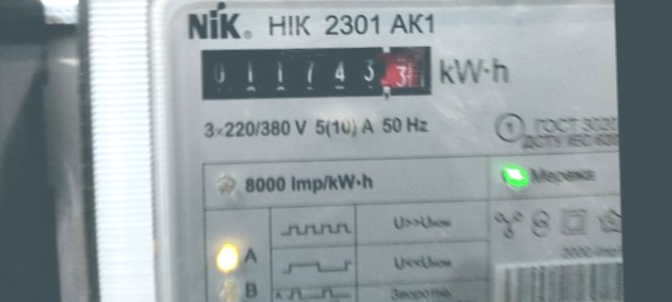0: (211, 57, 226, 85)
1: (272, 55, 285, 83), (243, 56, 254, 83)
3: (361, 55, 376, 82), (392, 63, 407, 88)
4: (331, 56, 346, 83)
7: (301, 54, 317, 82)
screen: (188, 31, 443, 113)
